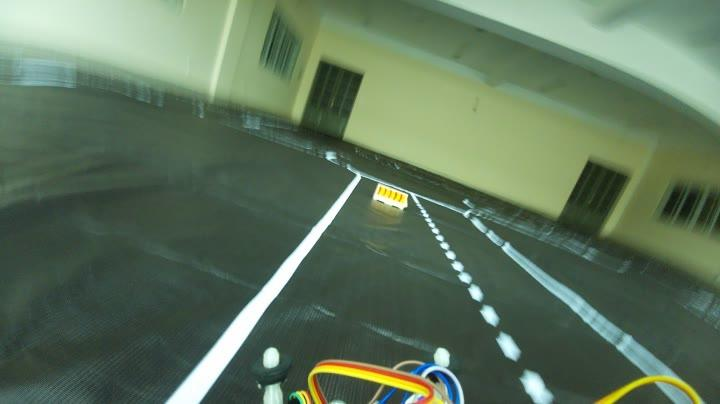roadblock: (370, 179, 412, 215)
